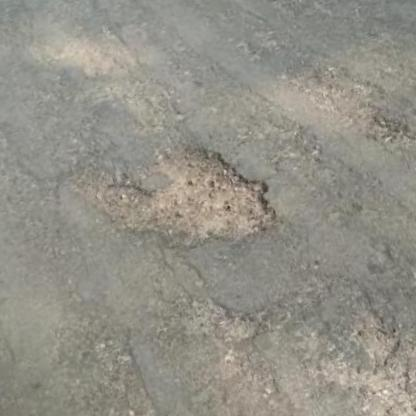pothole: (75, 119, 288, 285)
